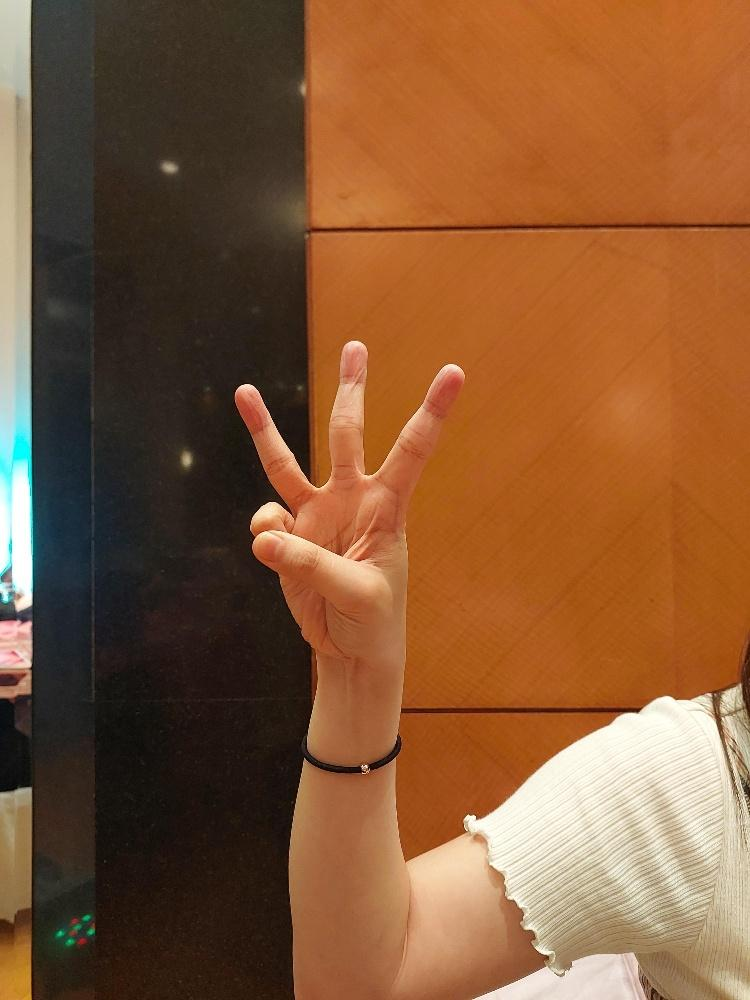w: (225, 334, 471, 660)
